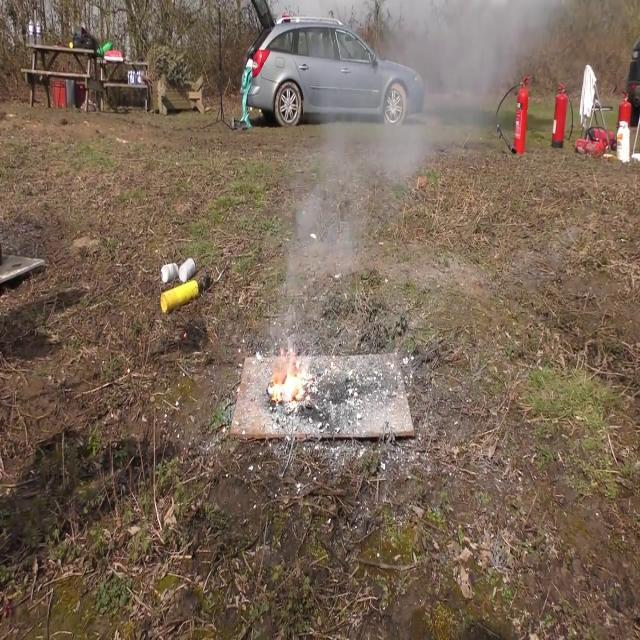Fire: (268, 348, 313, 406)
Smoke: (301, 0, 514, 285)
